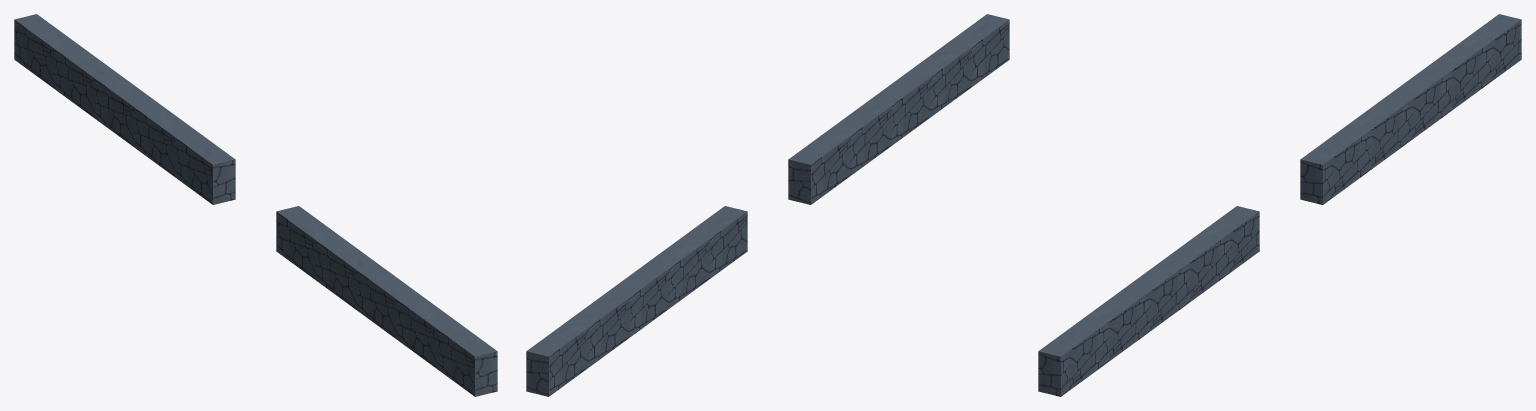
Rendered from Boarder.glb.
The picture shows the model from 3 angles, left to right: view 1: azimuth 30°, elevation 25°; view 2: azimuth 150°, elevation 25°; view 3: azimuth 330°, elevation 25°; orthographic projection.
Visible parts, largest first — view 1: Boarder; view 2: Boarder; view 3: Boarder.
Boxes of the visible parts, bbox=[...] form: Boarder: bbox=[14, 14, 497, 396]; Boarder: bbox=[526, 14, 1009, 396]; Boarder: bbox=[1038, 14, 1521, 396].
Size of what is drawn, in the model's own units: 5.99 by 10.22 by 212.
1 material, 1 textured.
